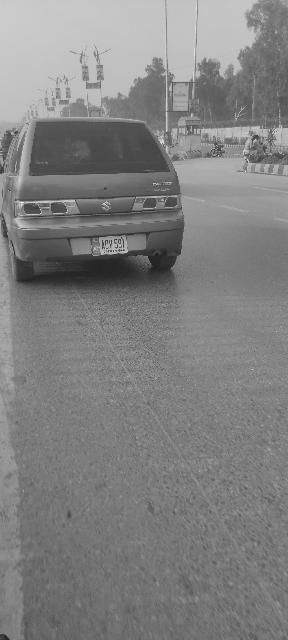Number: (100, 240, 126, 248)
